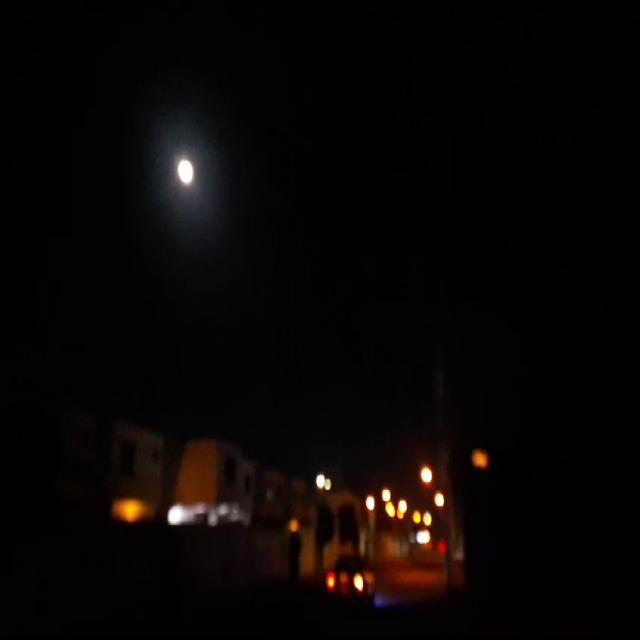moon: (176, 152, 196, 186)
